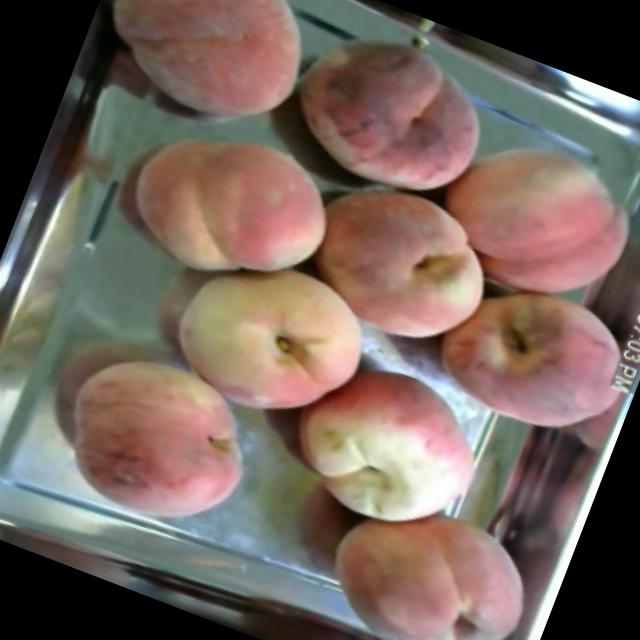Fruit: (28, 318, 286, 560), (145, 219, 402, 456), (256, 328, 504, 568), (104, 94, 360, 321), (258, 0, 519, 221), (287, 450, 574, 640), (278, 158, 519, 376), (414, 112, 640, 335), (407, 248, 640, 460), (72, 0, 348, 157)
